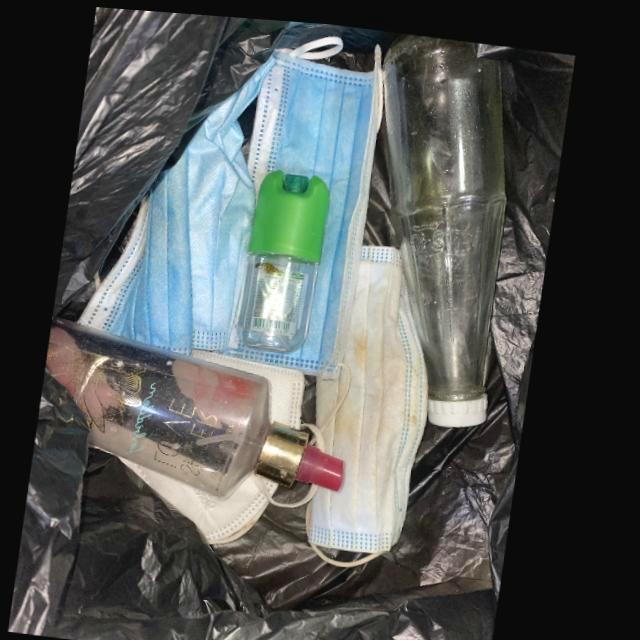glass_bottle: (383, 28, 510, 419)
plastic_bottle: (52, 316, 353, 495), (241, 164, 333, 348)
